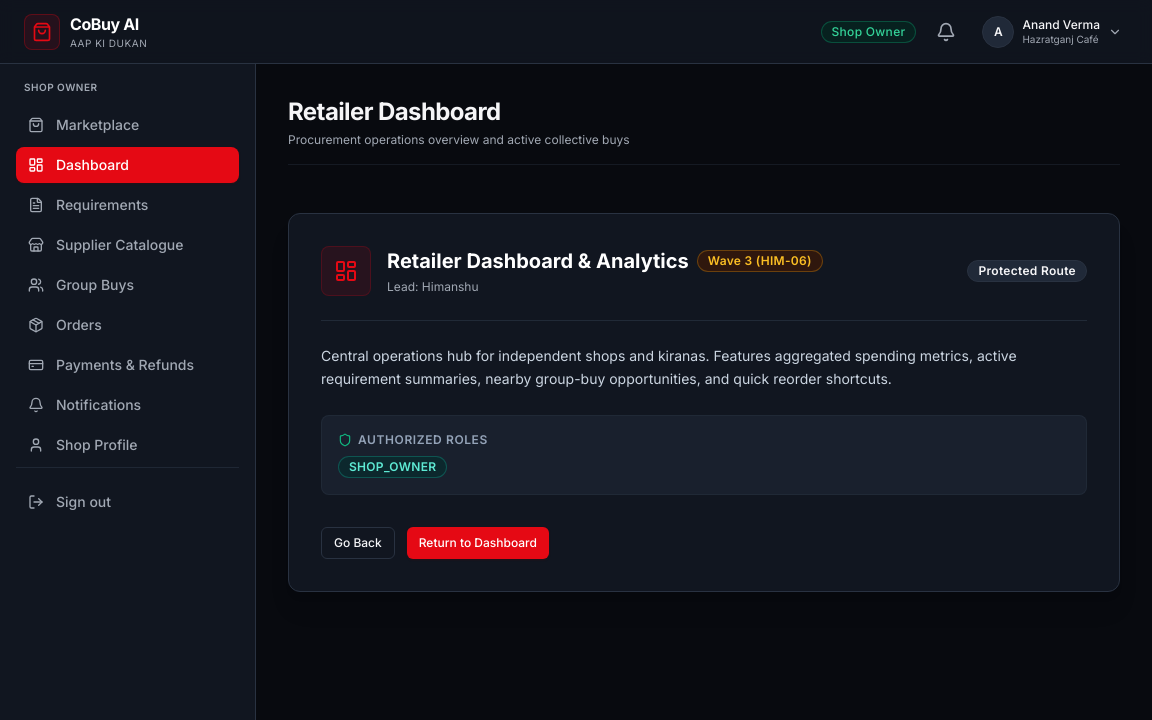
Test case: SUJ-10: Application Routing & Provider Integration › Marketplace Navigation Before and After Login › Flow 10: returns to protected dashboard from marketplace without re-authenticating
This screenshot has width=1152, height=720.
Navigate to marketplace
Click the button "Marketplace".
click(128, 125)  # box left=16, top=107, right=239, bottom=143
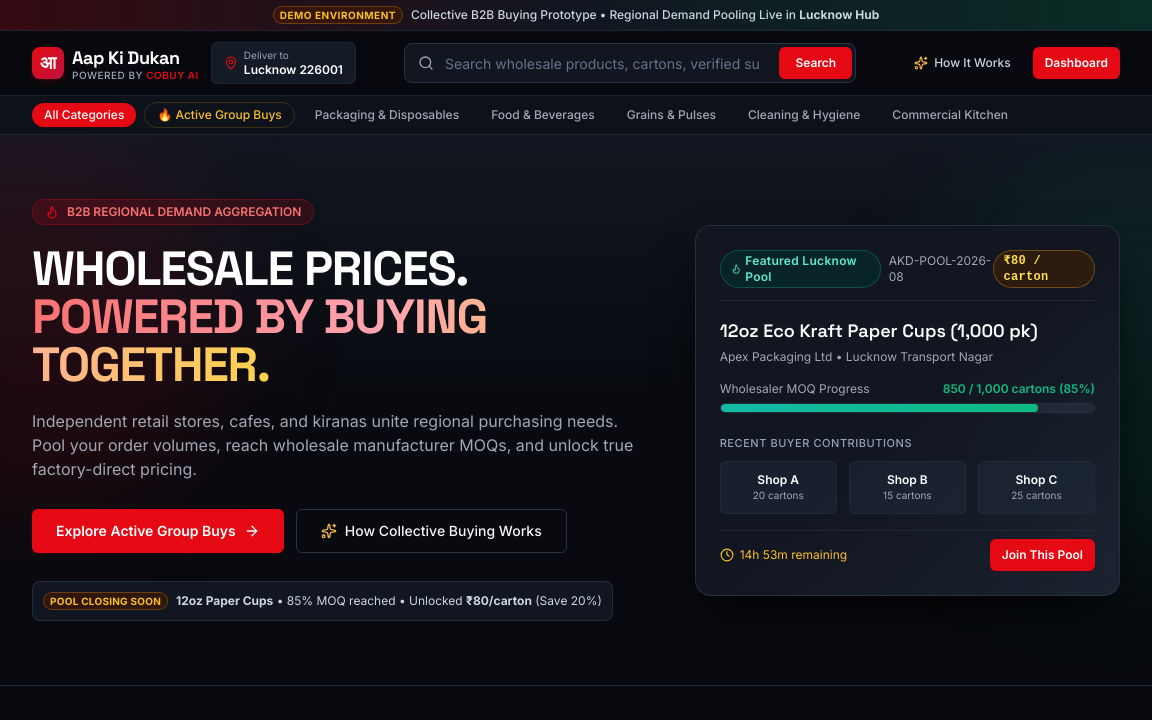
Check: the text "B2B REGIONAL DEMAND AGGREGATION" is shown, box left=67, top=204, right=301, bottom=220
Return to dashboard via navbar Dashboard button
Click the button with aria-label "Open Dashboard".
click(1076, 63)  # box left=1033, top=47, right=1120, bottom=79
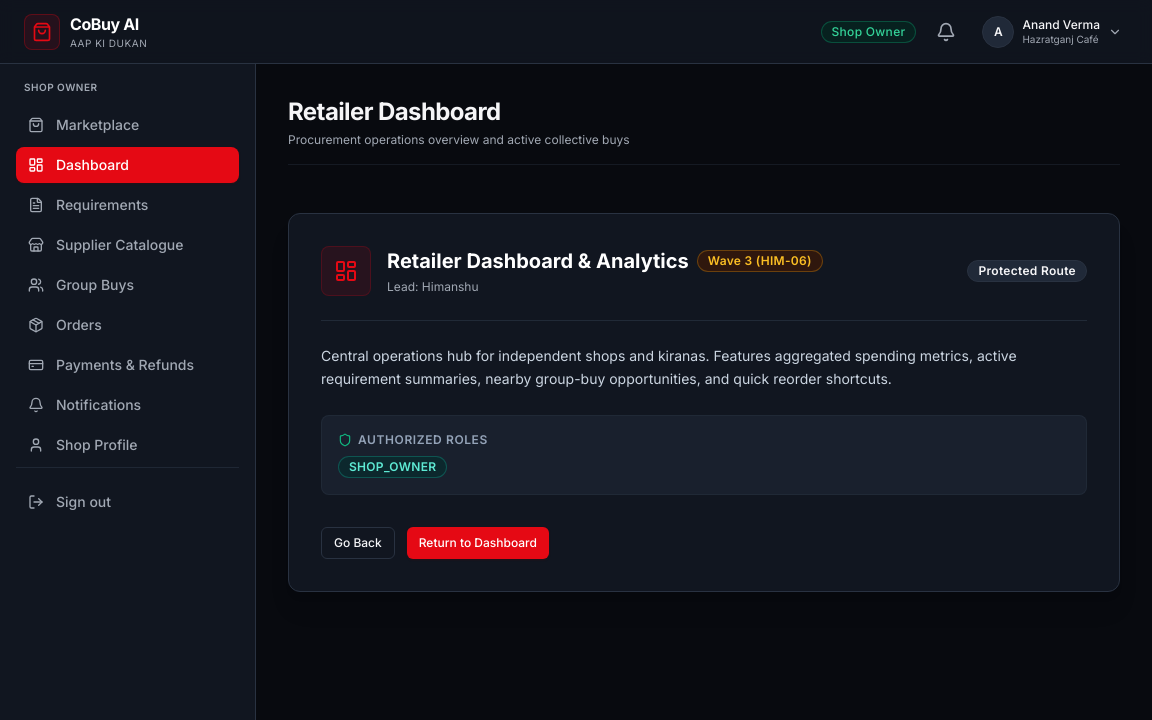
Check: the heading "Retailer Dashboard & Analytics" is shown, box left=387, top=247, right=689, bottom=275
